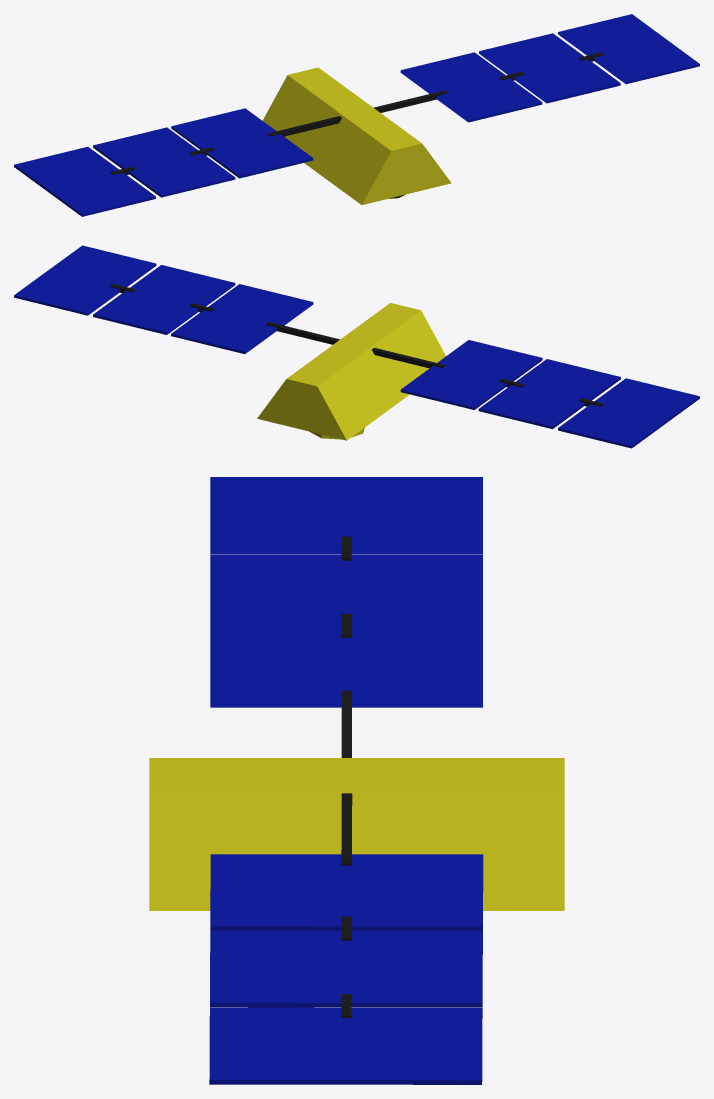
Rendered from globalstar.obj.
The picture shows the model from 3 angles, top to bottom: view 1: azimuth 30°, elevation 25°; view 2: azimuth 150°, elevation 25°; view 3: azimuth 270°, elevation 25°; orthographic projection. The views are drawn at different scales.
Visible parts, largest first — view 1: Cube.001, Cube.006, Cube.009, Cube.005, Cube.003, Cube.010, Cube.012, Cube.002, Cube.013; view 2: Cube.001, Cube.006, Cube.009, Cube.005, Cube.010, Cube.003, Cube.012, Cube.002, Cube.013; view 3: Cube.001, Cube.009, Cube.010, Cube.003, Cube.006, Cube.012, Cube.005.
Boxes of the visible parts, box(x1,y1,x2,y2) form: Cube.001: box(262, 67, 451, 204); Cube.006: box(14, 146, 155, 216); Cube.009: box(558, 14, 699, 84); Cube.005: box(93, 127, 235, 197); Cube.003: box(171, 108, 313, 178); Cube.010: box(479, 33, 620, 103); Cube.012: box(400, 52, 542, 122); Cube.002: box(268, 116, 341, 136); Cube.013: box(374, 90, 447, 112); Cube.001: box(257, 303, 445, 440); Cube.006: box(558, 378, 699, 448); Cube.009: box(14, 245, 156, 315); Cube.005: box(478, 359, 620, 429); Cube.010: box(93, 265, 235, 334); Cube.003: box(400, 340, 542, 409); Cube.012: box(171, 284, 313, 353); Cube.002: box(371, 347, 445, 368); Cube.013: box(266, 322, 339, 344); Cube.001: box(149, 758, 564, 910); Cube.009: box(209, 1007, 482, 1084); Cube.010: box(210, 930, 482, 1007); Cube.003: box(210, 630, 482, 707); Cube.006: box(210, 477, 482, 553); Cube.012: box(210, 854, 483, 930); Cube.005: box(210, 554, 482, 630).
Bounding box in the file's own units: 11 × 1.01 × 3.2.
